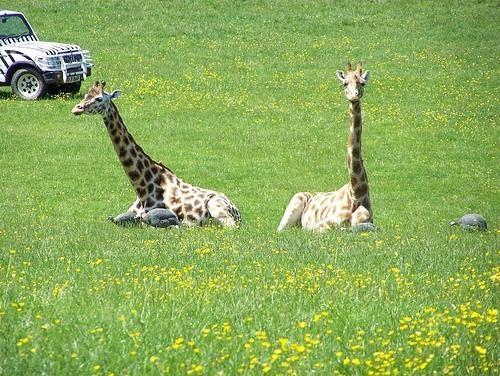car: (1, 11, 93, 100)
truck: (0, 12, 95, 101)
